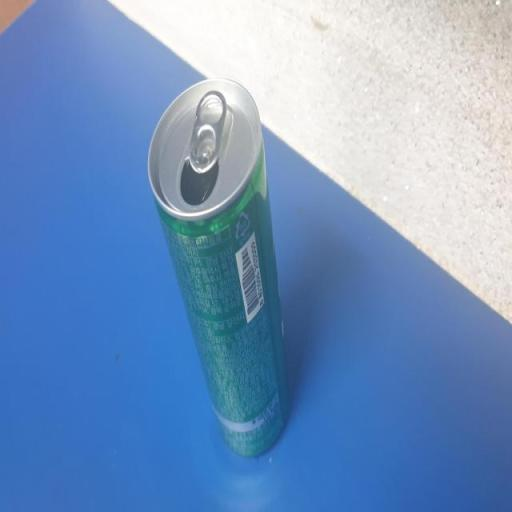metal: (128, 64, 349, 502)
